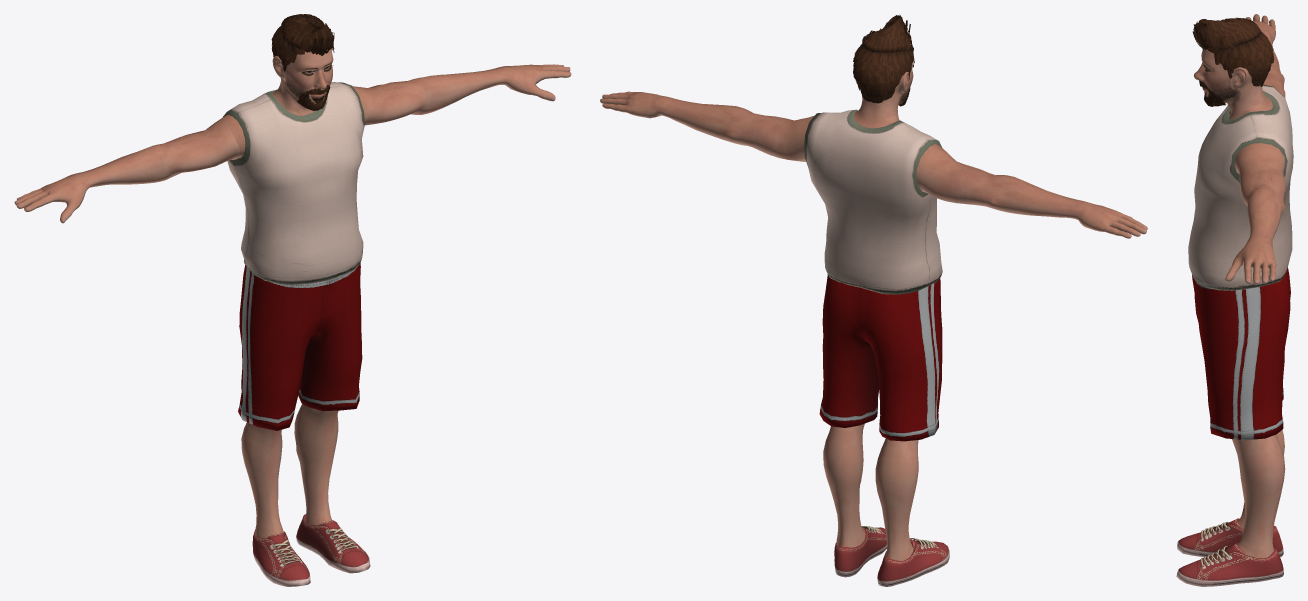
3 views of the same model, side by side, from view 1: azimuth 30°, elevation 25°; view 2: azimuth 150°, elevation 25°; view 3: azimuth 270°, elevation 25° (orthographic).
Parts seen in each view (by area): view 1: Body, Tops, Bottoms, Shoes, Hair; view 2: Body, Tops, Bottoms, Hair, Shoes; view 3: Body, Bottoms, Tops, Shoes, Hair, Beards.
Boxes of the visible parts, <box> form: Body: <box>14,20,571,538</box>; Tops: <box>223,82,364,284</box>; Bottoms: <box>238,263,362,430</box>; Shoes: <box>252,514,370,586</box>; Hair: <box>271,14,334,71</box>; Body: <box>600,45,1147,560</box>; Tops: <box>804,109,942,294</box>; Bottoms: <box>819,274,942,441</box>; Hair: <box>853,14,914,103</box>; Shoes: <box>834,526,949,586</box>; Body: <box>1194,14,1286,558</box>; Bottoms: <box>1192,267,1290,440</box>; Tops: <box>1188,85,1293,290</box>; Shoes: <box>1176,518,1283,586</box>; Hair: <box>1192,17,1274,86</box>; Beards: <box>1204,91,1226,106</box>.
Size of the model in its own units: 195 by 183 by 35.65.
7 materials, 7 textured.
